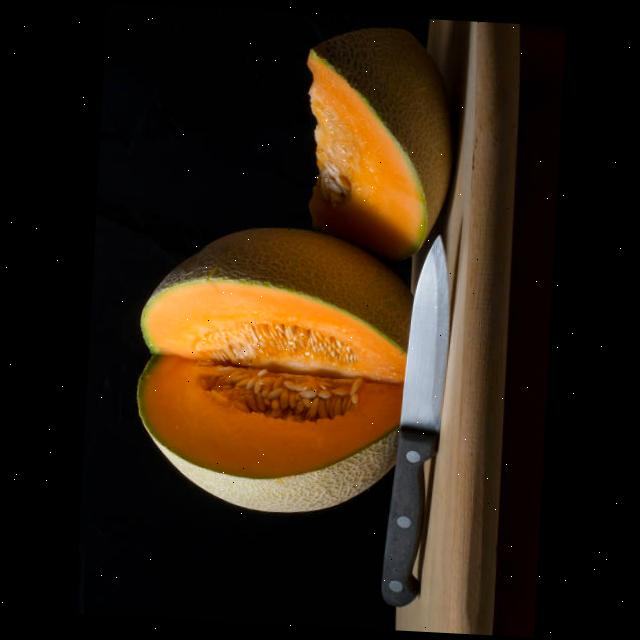Hami Melon: (128, 222, 408, 519), (298, 30, 458, 258)
